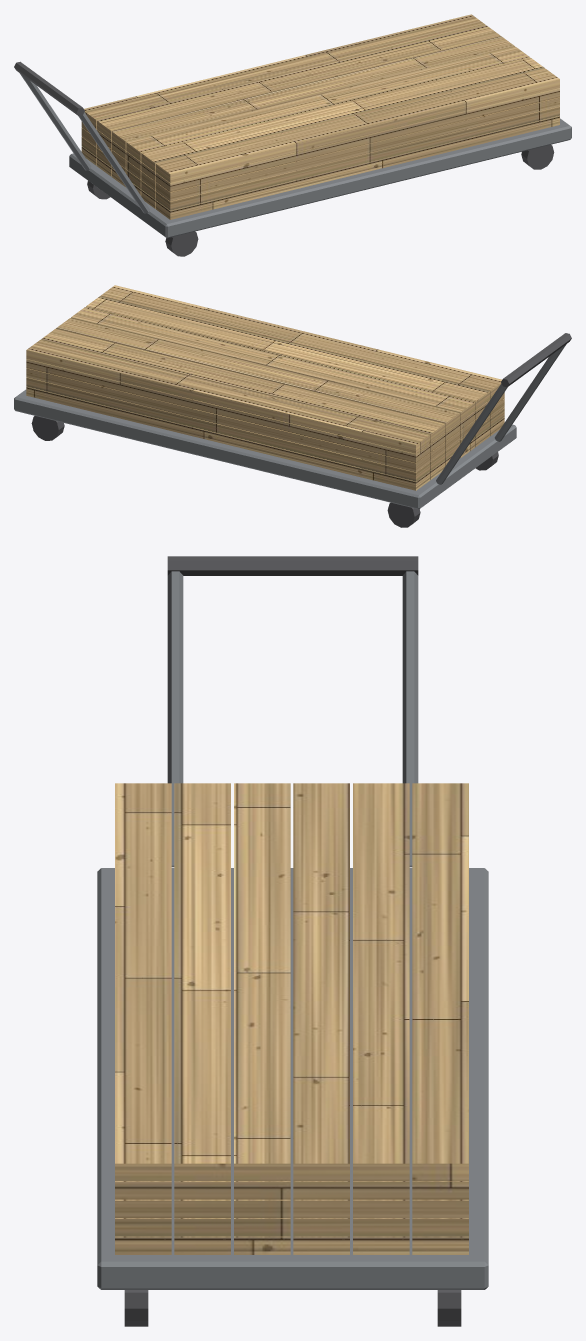
Rendered from lumber_cart.glb.
3 views of the same model, one above another, from view 1: azimuth 30°, elevation 25°; view 2: azimuth 150°, elevation 25°; view 3: azimuth 270°, elevation 25° (orthographic). The views are drawn at different scales.
Parts seen in each view (by area): view 1: lumber_cart_lumber, lumber_cart_steel_d, lumber_cart_rubber; view 2: lumber_cart_lumber, lumber_cart_steel_d, lumber_cart_rubber; view 3: lumber_cart_lumber, lumber_cart_steel_d, lumber_cart_rubber.
Part boxes in pixels (<box>): lumber_cart_lumber: <box>81,14,559,219</box>; lumber_cart_steel_d: <box>19,73,571,238</box>; lumber_cart_rubber: <box>14,61,554,256</box>; lumber_cart_lumber: <box>26,285,504,490</box>; lumber_cart_steel_d: <box>14,344,566,509</box>; lumber_cart_rubber: <box>31,333,571,527</box>; lumber_cart_lumber: <box>115,783,468,1254</box>; lumber_cart_steel_d: <box>97,571,488,1289</box>; lumber_cart_rubber: <box>124,556,461,1326</box>.
Bounding box in the file's own units: 2.83 × 0.9217 × 1.
3 materials, 1 textured.
